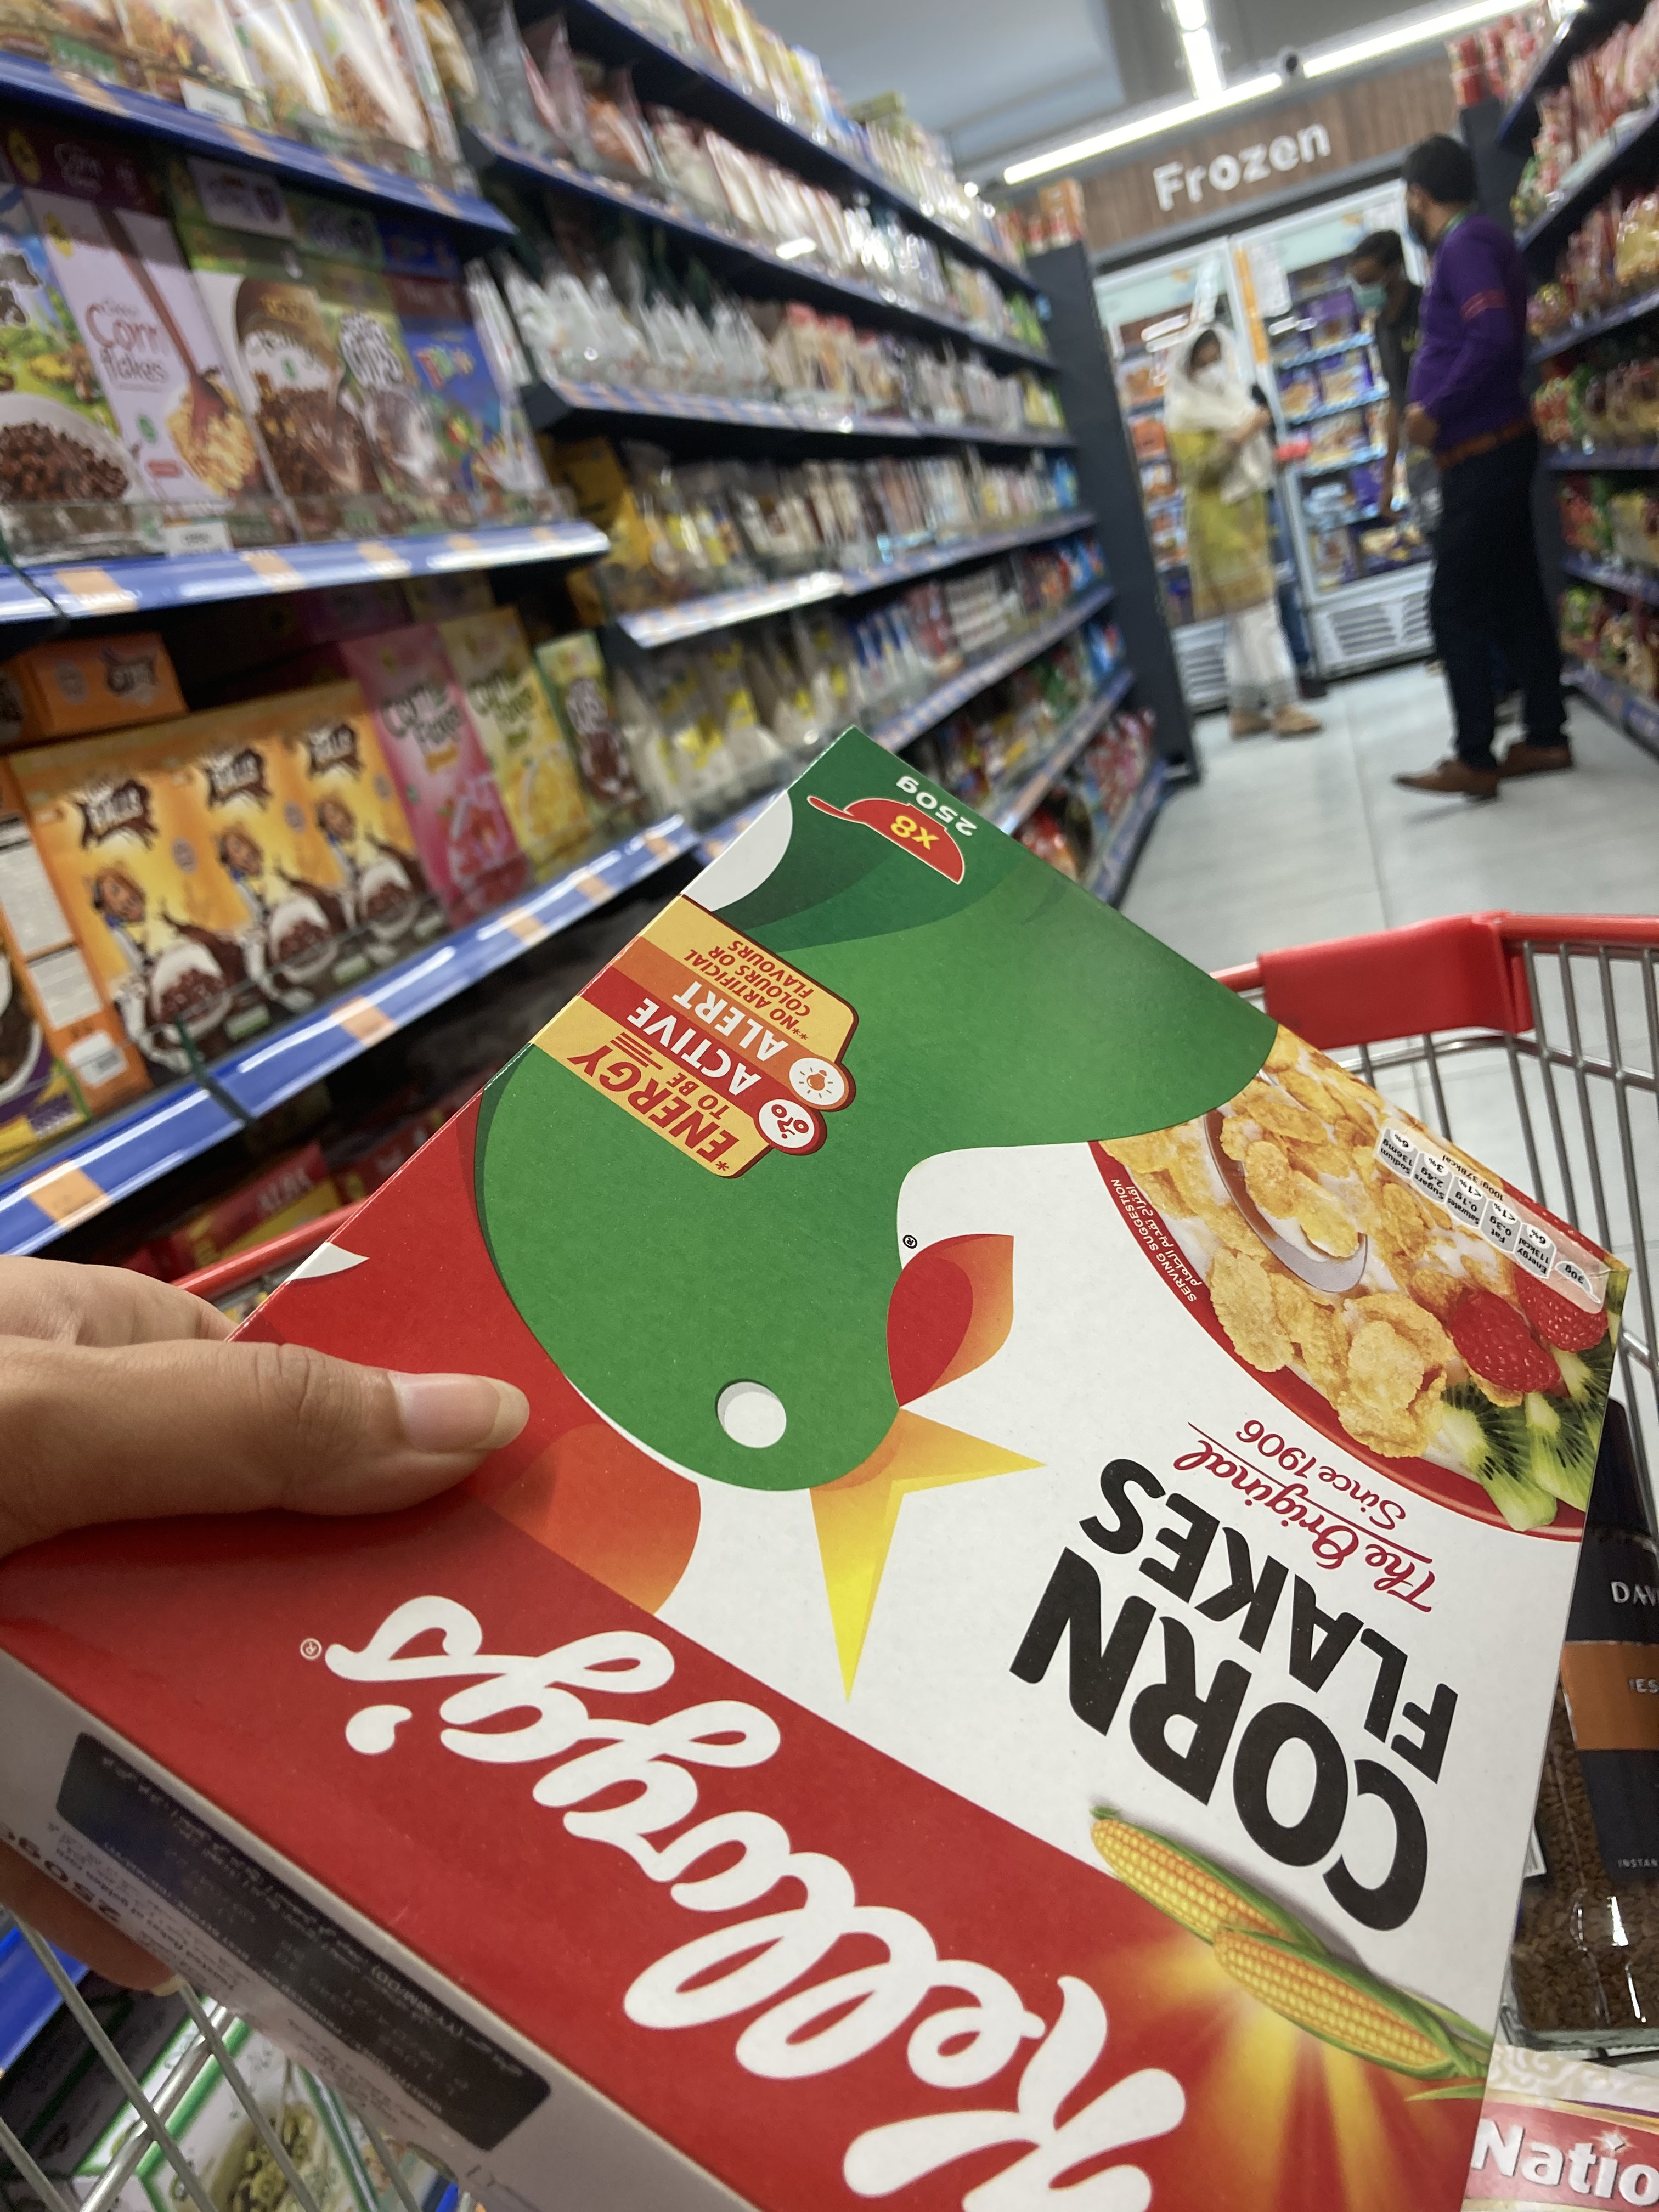Kellogg's Corn Flakes: (2, 719, 1647, 2212)
